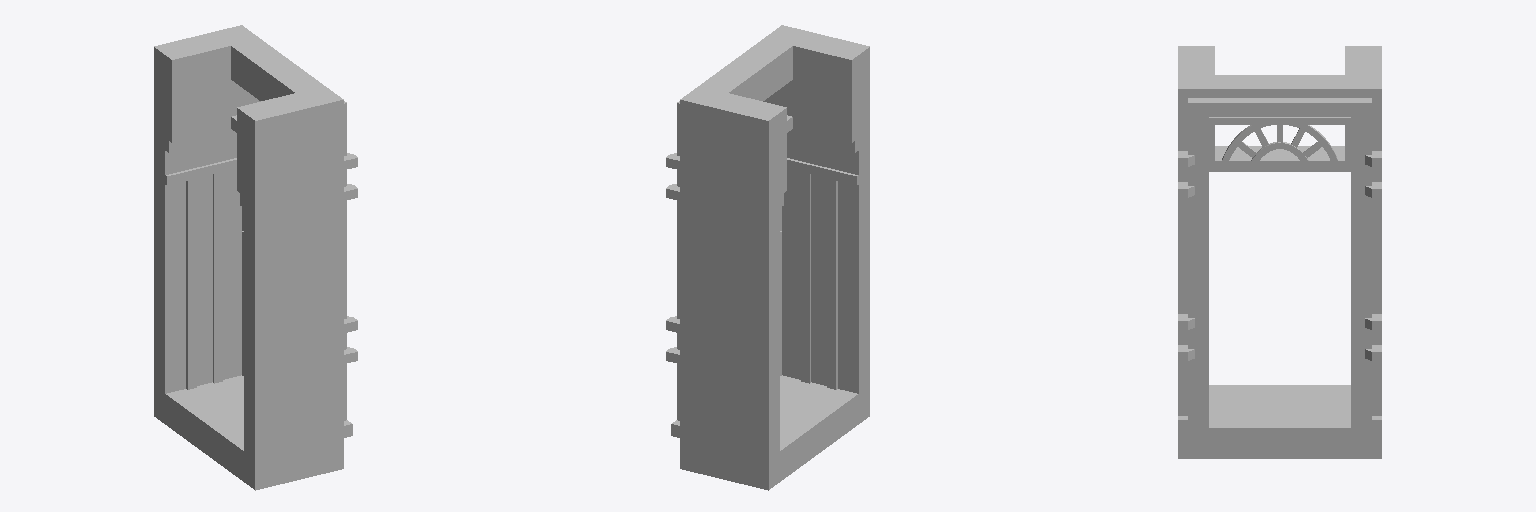
Rendered from DoorSingle.obj.
The picture shows the model from 3 angles: view 1: azimuth 30°, elevation 25°; view 2: azimuth 150°, elevation 25°; view 3: azimuth 270°, elevation 25°; orthographic projection.
Visible parts, largest first — view 1: MainDoorSingle; view 2: MainDoorSingle; view 3: MainDoorSingle.
Boxes of the visible parts, x1,y1,x2,y2 form: MainDoorSingle: [154, 25, 357, 490]; MainDoorSingle: [666, 25, 869, 490]; MainDoorSingle: [1178, 46, 1381, 458].
Bounding box in the file's own units: 1.46 × 5 × 2.5.